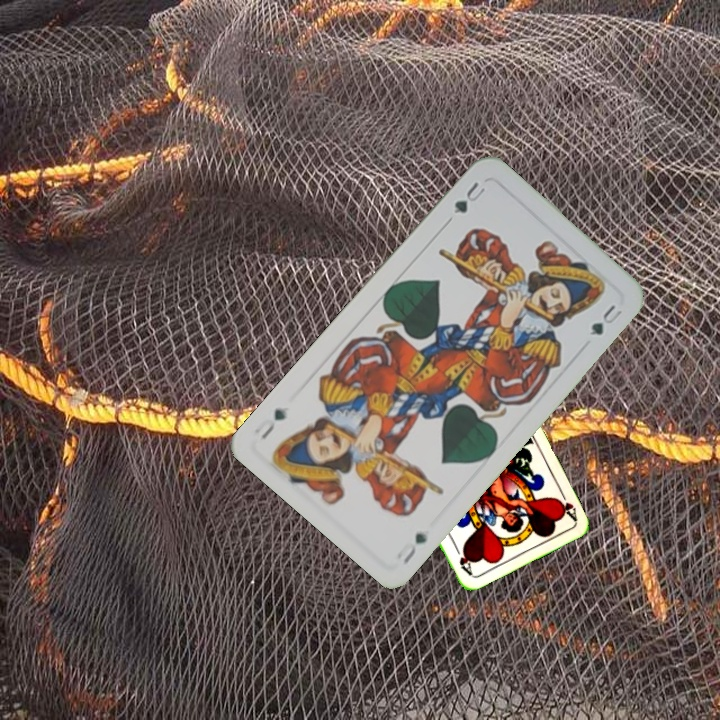GU: (449, 177, 488, 217), (398, 528, 431, 568)
HA: (552, 484, 579, 523)
